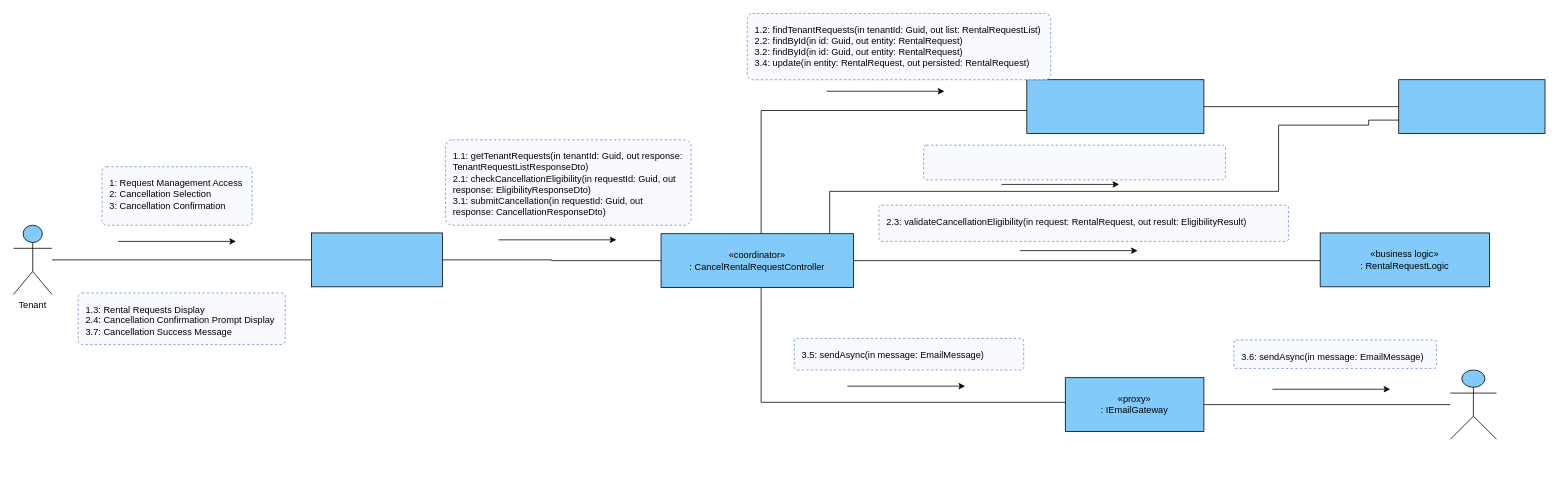
Some shapes in this 1558 by 480 pixel diagram are drawn without their labels. The centre of each missing label's shape, as x and y in pixels:
"3.3: applyCancellation(out result: StatusChangeResult)" goes at point 1074,162.
"Email Provider" goes at point 1473,404.
"«data abstraction» : RentalRequest" goes at point 1471,106.
"«database wrapper» : IRentalRequestRepository" goes at point 1115,106.
"«user interaction» : TenantUI" goes at point 376,259.
